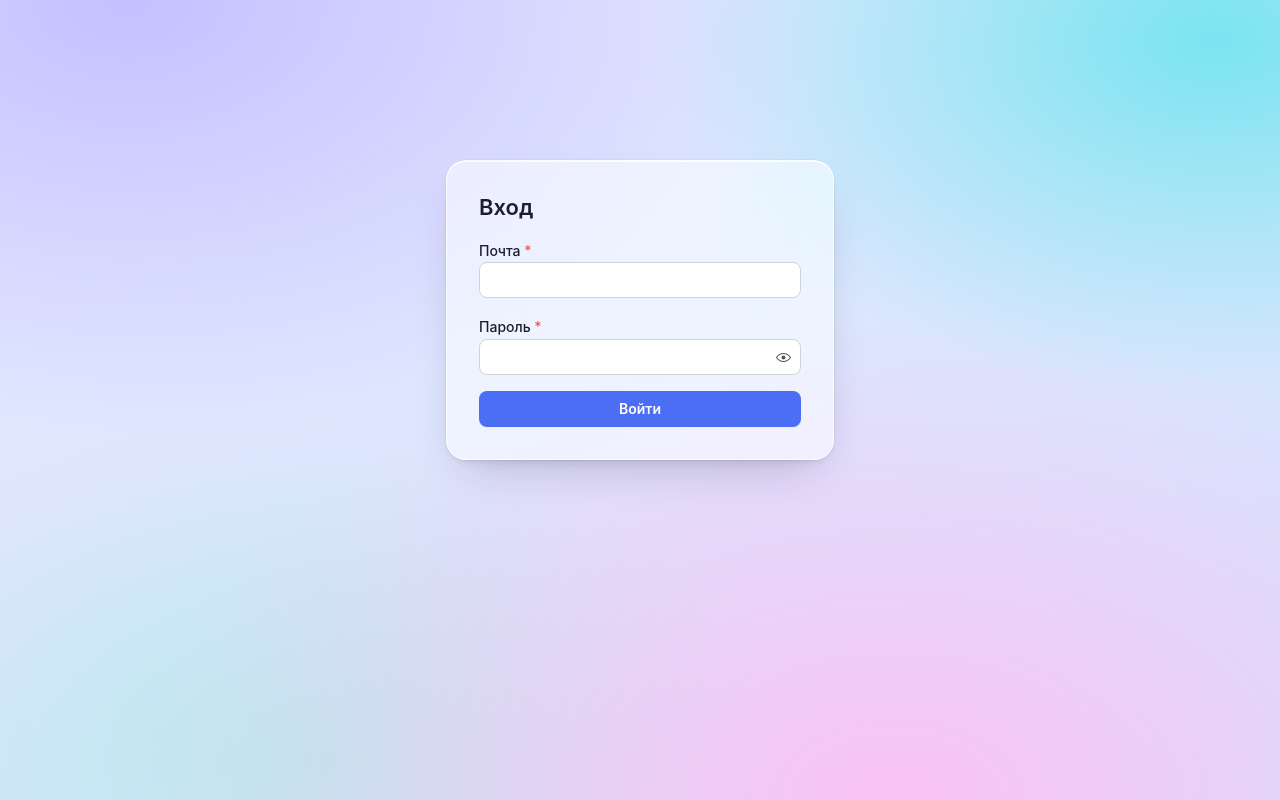
Test case: вход › E3: неверный пароль даёт одно сообщение без подсказок
This screenshot has width=1280, height=800.
In the field labelled "Почта *": (640, 280) [479, 262, 801, 298], type "кто-то@test.local"
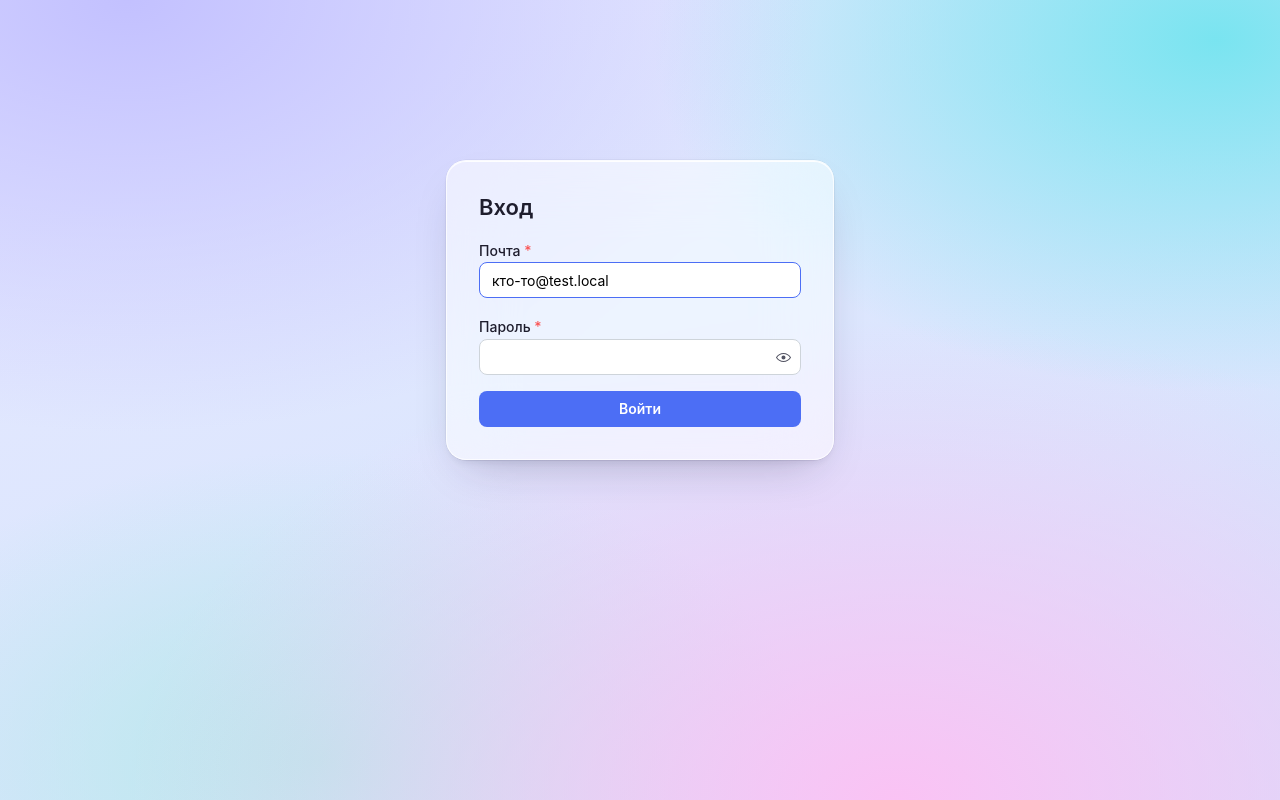
In the password field labelled "Пароль *": (640, 357) [480, 340, 800, 374], type "не тот"
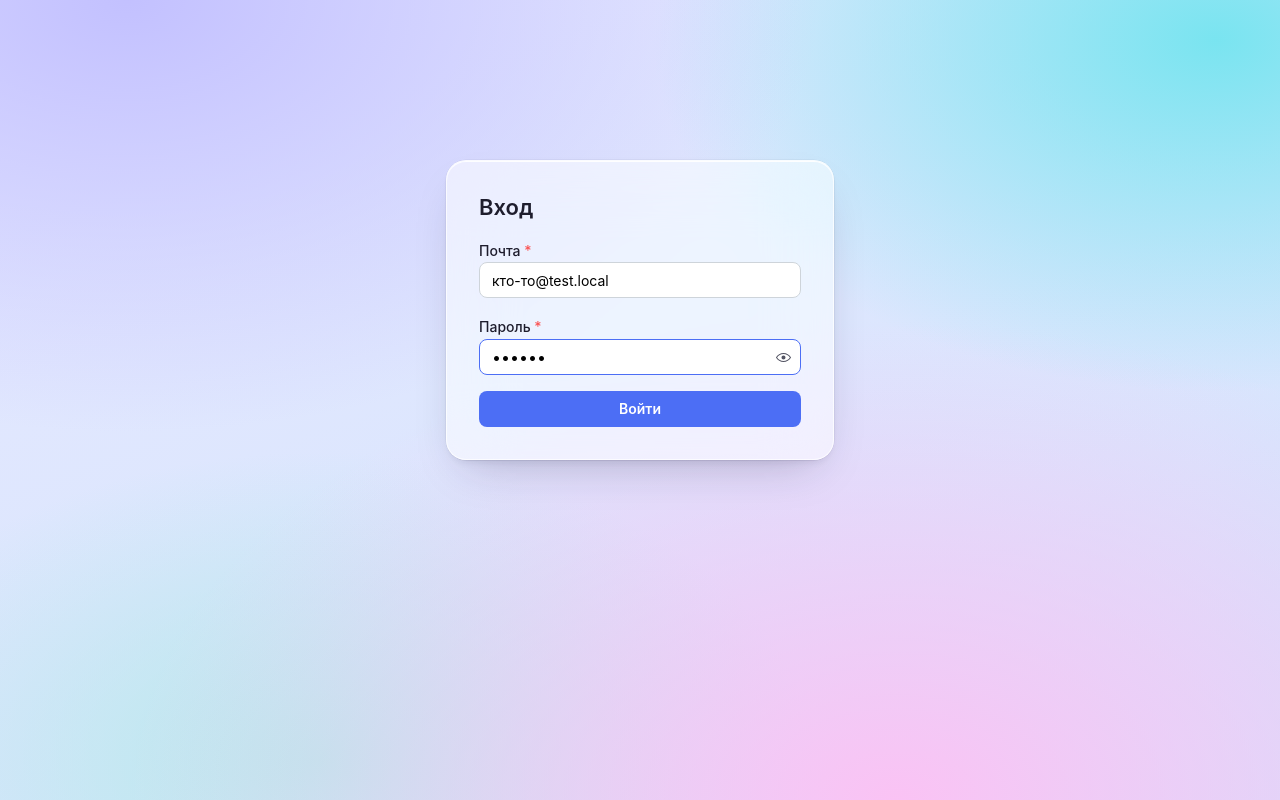
Click the button "Войти": (640, 409) [479, 391, 801, 427]
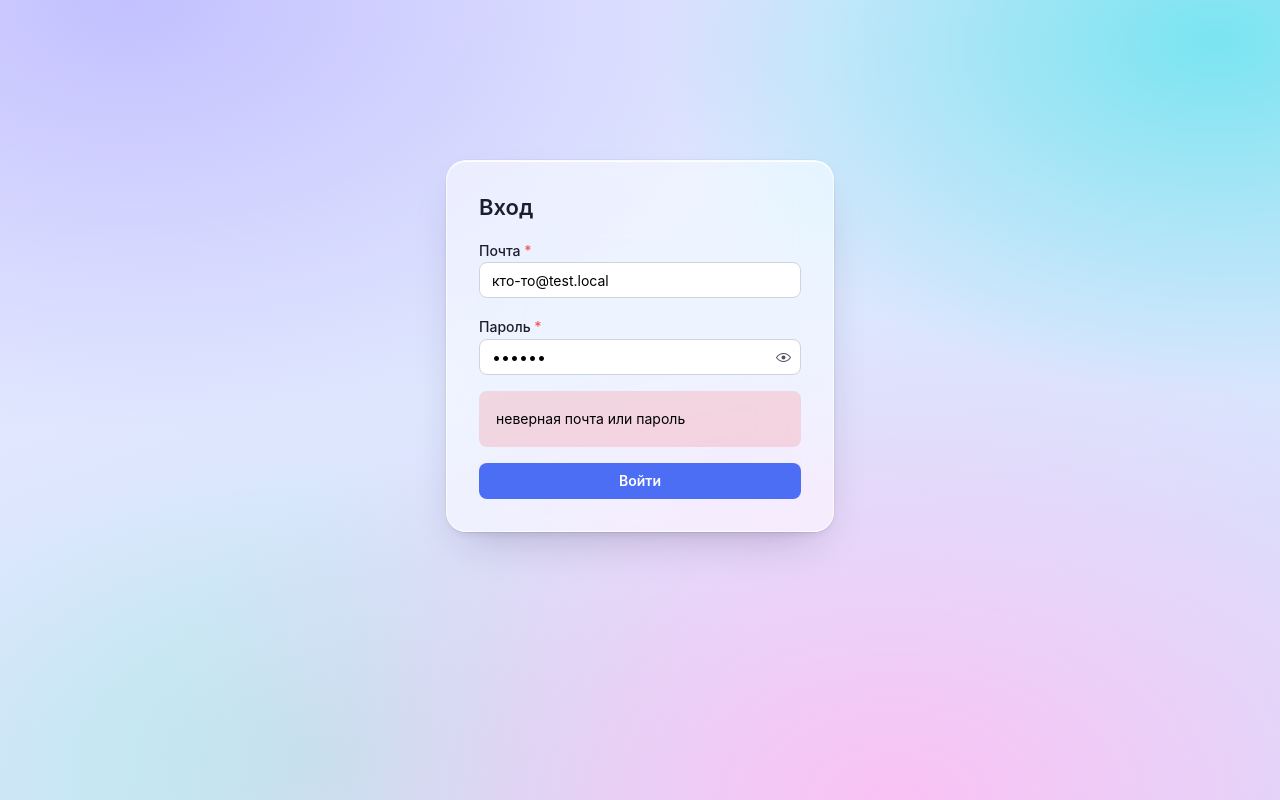
Check: the text "неверная почта или пароль" is shown, box [496, 410, 685, 427]
